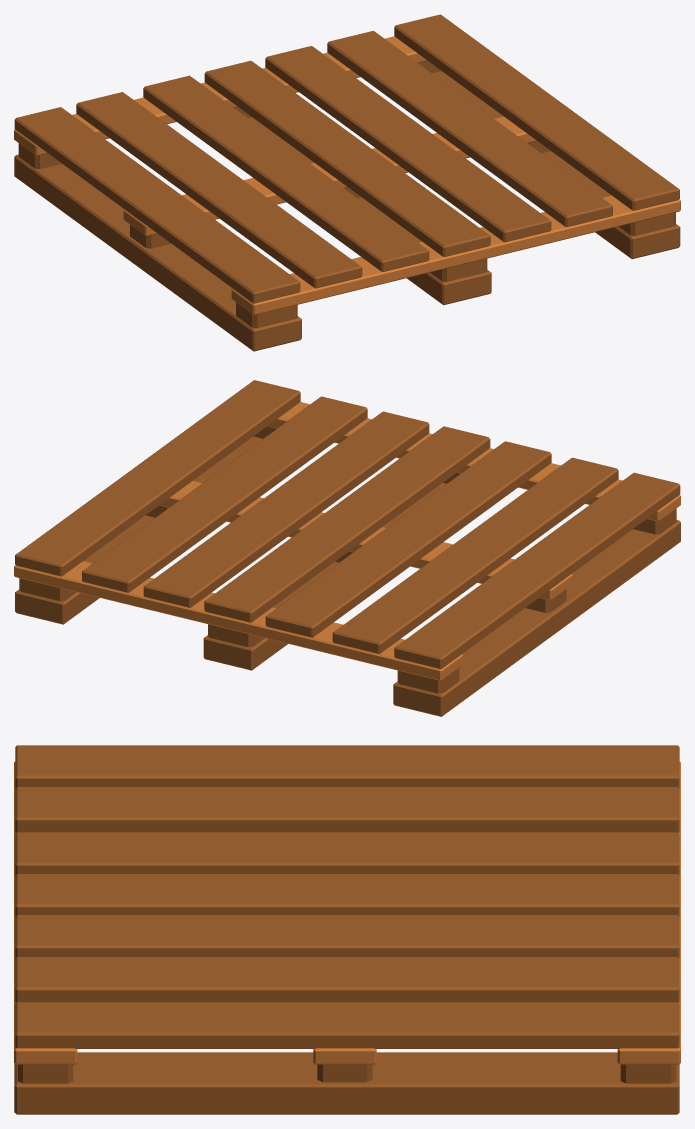
The model's file is pallet.glb.
3 renders of one model, top to bottom at view 1: azimuth 30°, elevation 25°; view 2: azimuth 150°, elevation 25°; view 3: azimuth 270°, elevation 25°, orthographic. The views are drawn at different scales.
Parts seen in each view (by area): view 1: Pallet2; view 2: Pallet2; view 3: Pallet2.
Part boxes in pixels (x1=…): Pallet2: x1=14, y1=14, x2=680, y2=351; Pallet2: x1=14, y1=380, x2=680, y2=716; Pallet2: x1=14, y1=745, x2=680, y2=1114.
Bounding box in the file's own units: 2.39 × 0.3161 × 2.32.
